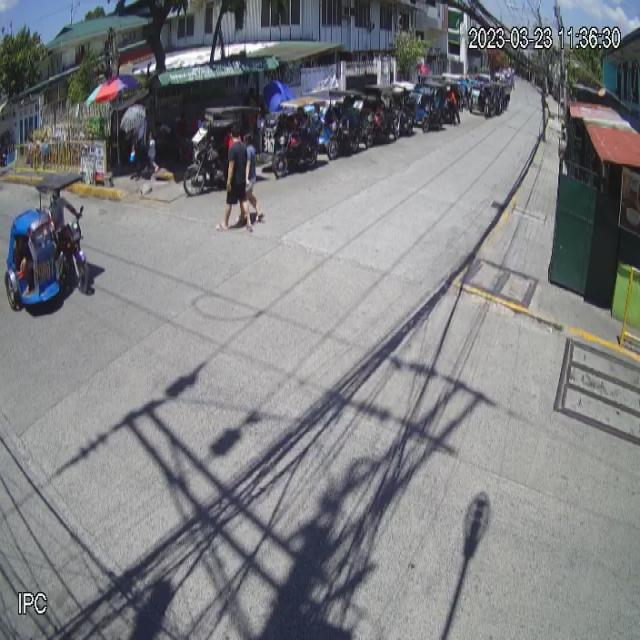Tricycle: (3, 170, 91, 310)
